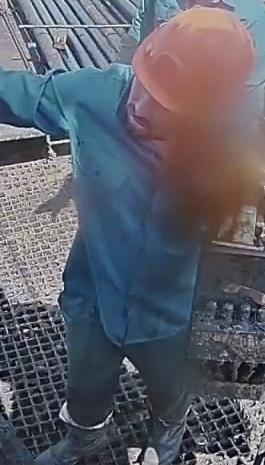helmet: (131, 4, 255, 115)
vest: (35, 65, 224, 345)
